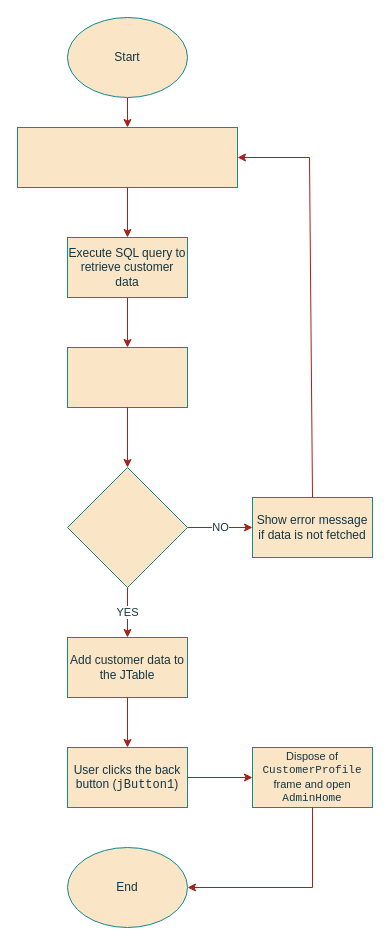
Image size: 390x945. Some labels were removed from this diagram. The centre of each missing label's shape, as x and y in pixels:
Establish database connection using connectiontodatabase.getConnection(): the point at 127,157
Is data retrieved successfully?: the point at 127,527
Load customer profile data (display in jtable): the point at 127,377
